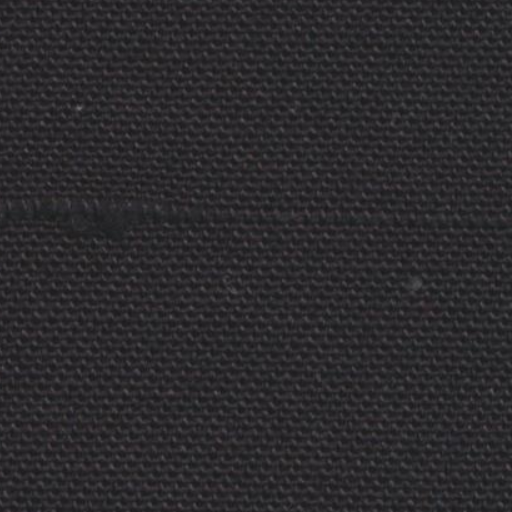DaiSha: (8, 182, 444, 236)
